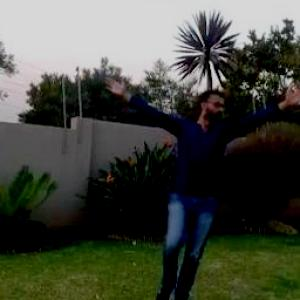takeoff: (63, 47, 299, 299)
